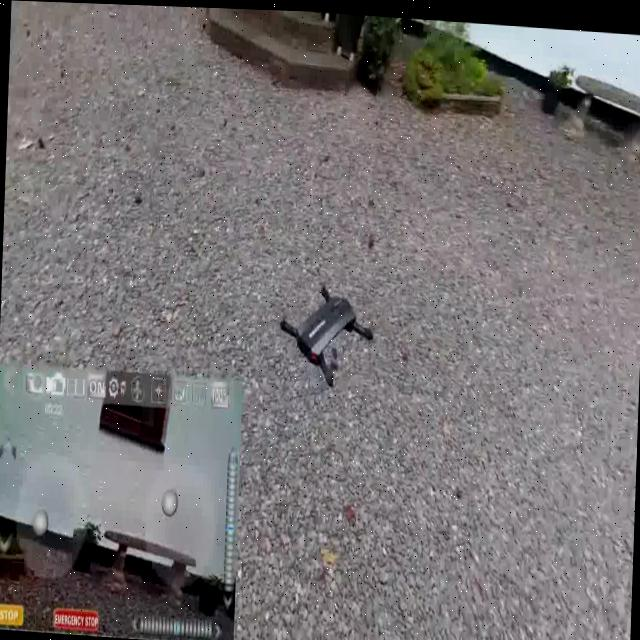drone: (270, 254, 380, 397)
